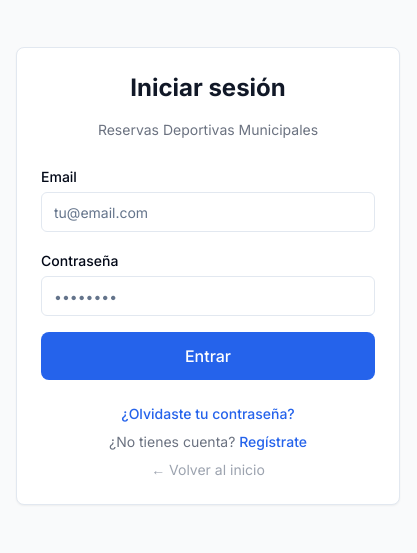
Test: PaginaLogin › debería mostrar error cuando las credenciales son incorrectas
Type "mal@example.com" into the field labelled "Email".
click(208, 212); type("mal@example.com")  # box top-left (41, 192), bottom-right (375, 232)
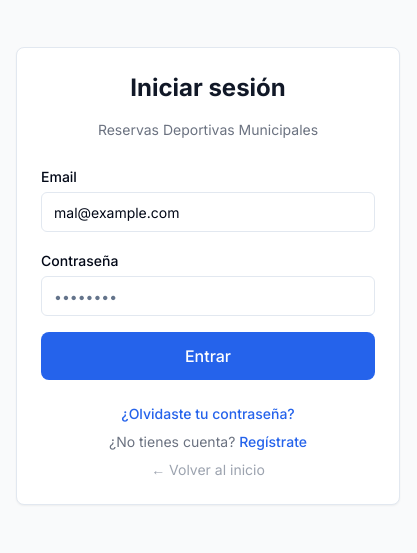
Type "mal" into the password field labelled "Contraseña".
click(208, 296); type("mal")  # box top-left (41, 276), bottom-right (375, 316)
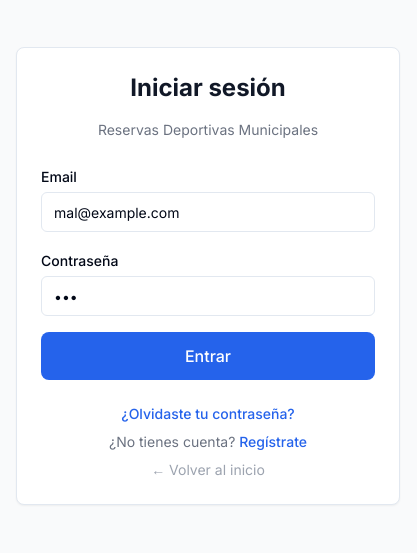
Click the button "Entrar".
click(208, 356)  # box top-left (41, 332), bottom-right (375, 380)
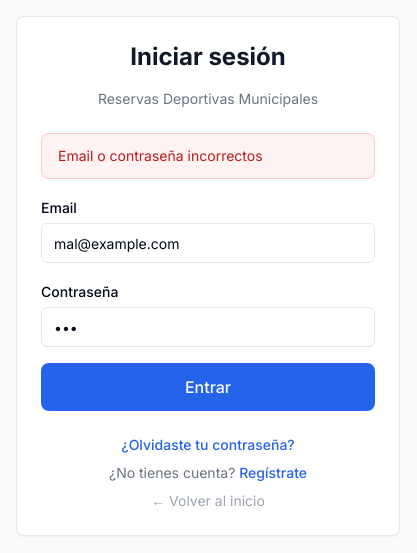
Now the message "Email o contraseña incorrectos" is shown, box top-left (41, 133), bottom-right (375, 179)
